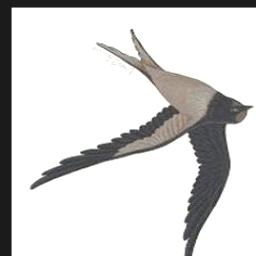Swallow: (29, 30, 255, 256)
